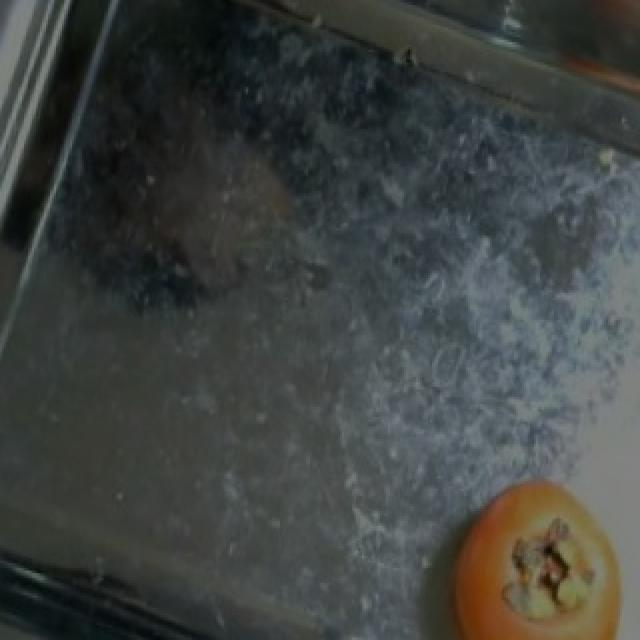Fruit: (418, 459, 638, 640)
